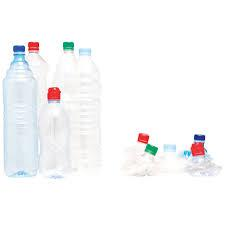Plastic: (3, 35, 41, 183), (69, 45, 106, 182), (22, 36, 52, 185), (36, 82, 72, 186), (54, 39, 79, 186), (178, 128, 219, 183), (176, 143, 221, 191), (116, 126, 152, 183), (123, 141, 161, 188), (154, 139, 187, 186)
